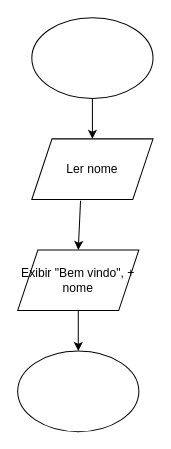
Some shapes in this 171 by 449 pixel diagram are drawn without their labels. Here are the shapes that lost their labels. From the top down, the centre of each, then its label:
At point 92,57: "Inicio".
At point 78,391: "Fim".
